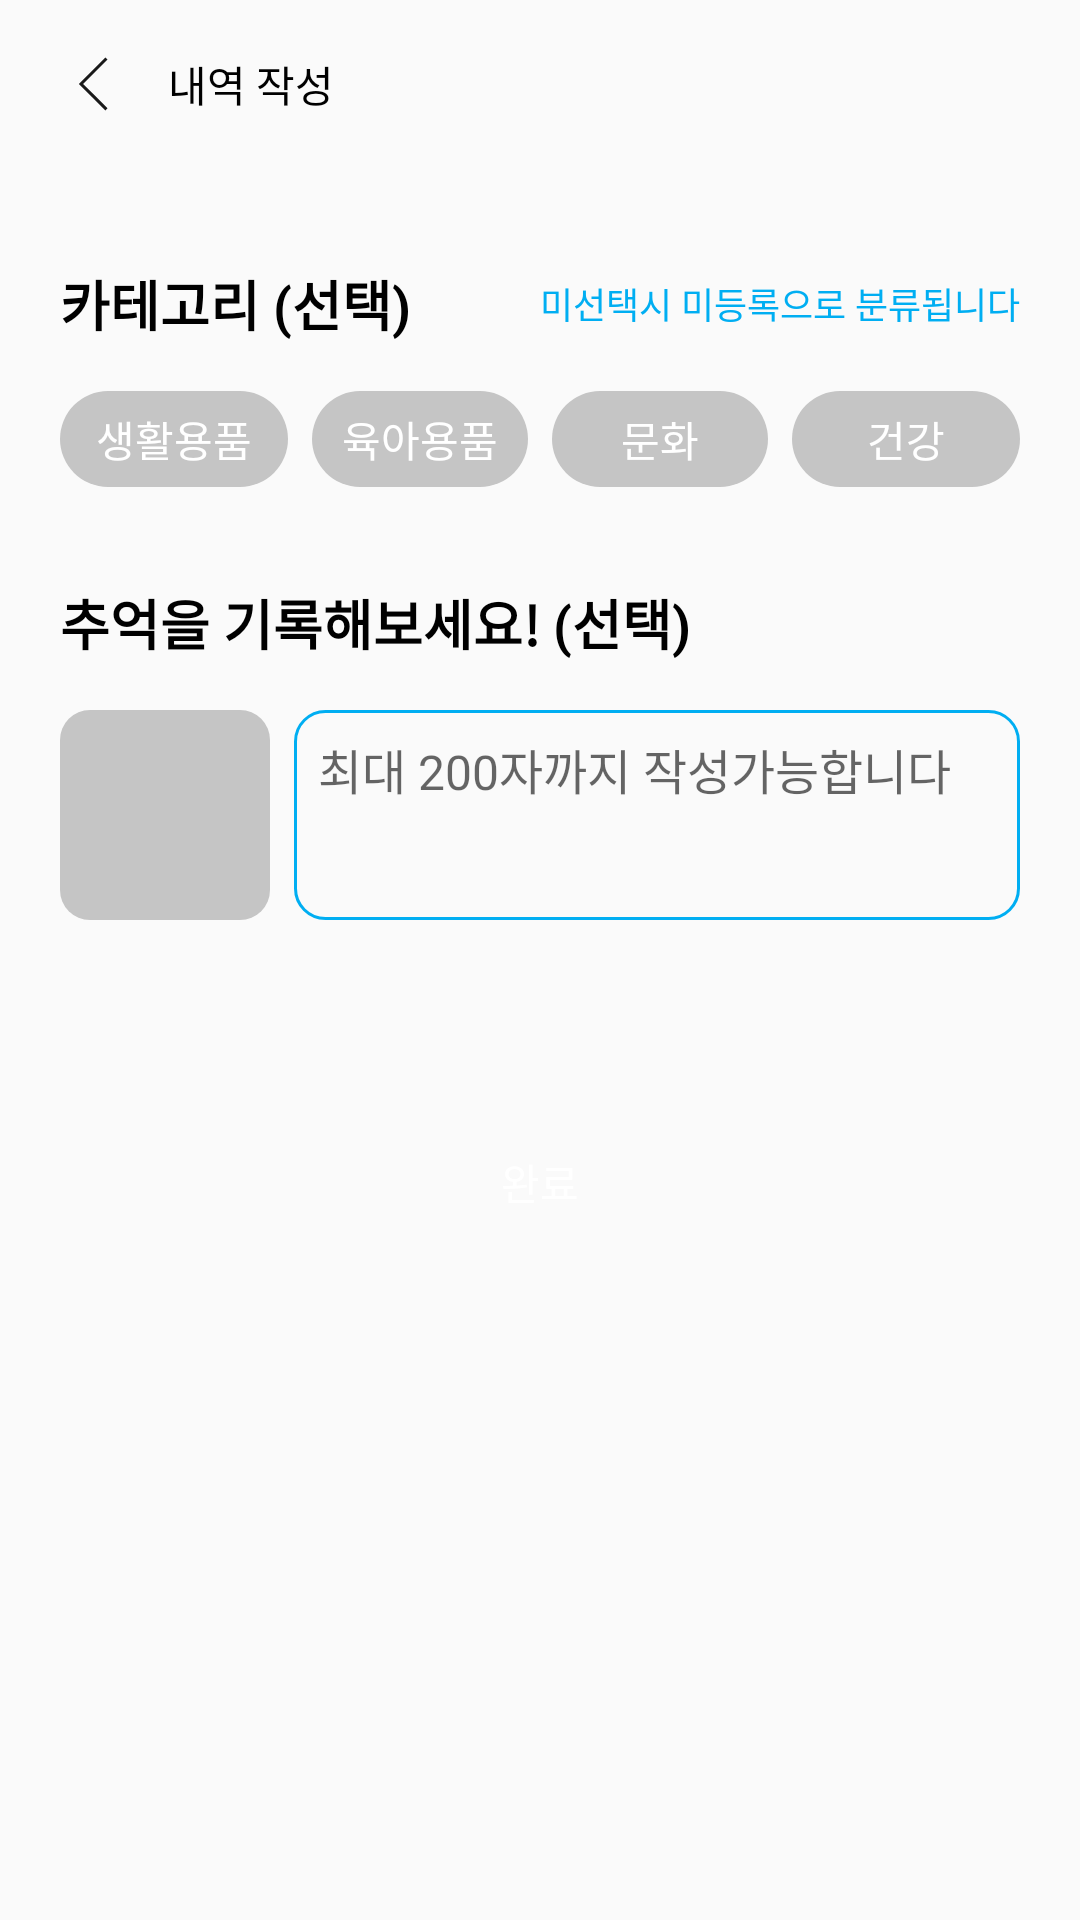

Screen size 1080 x 1920. Icon name, then its center in pixels as [x,y]:
back: [93,84]
